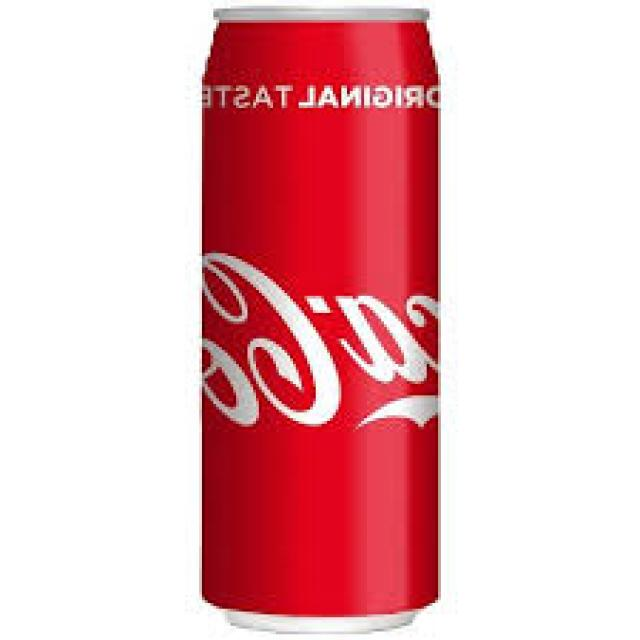Coca-Cola: (184, 0, 456, 640)
